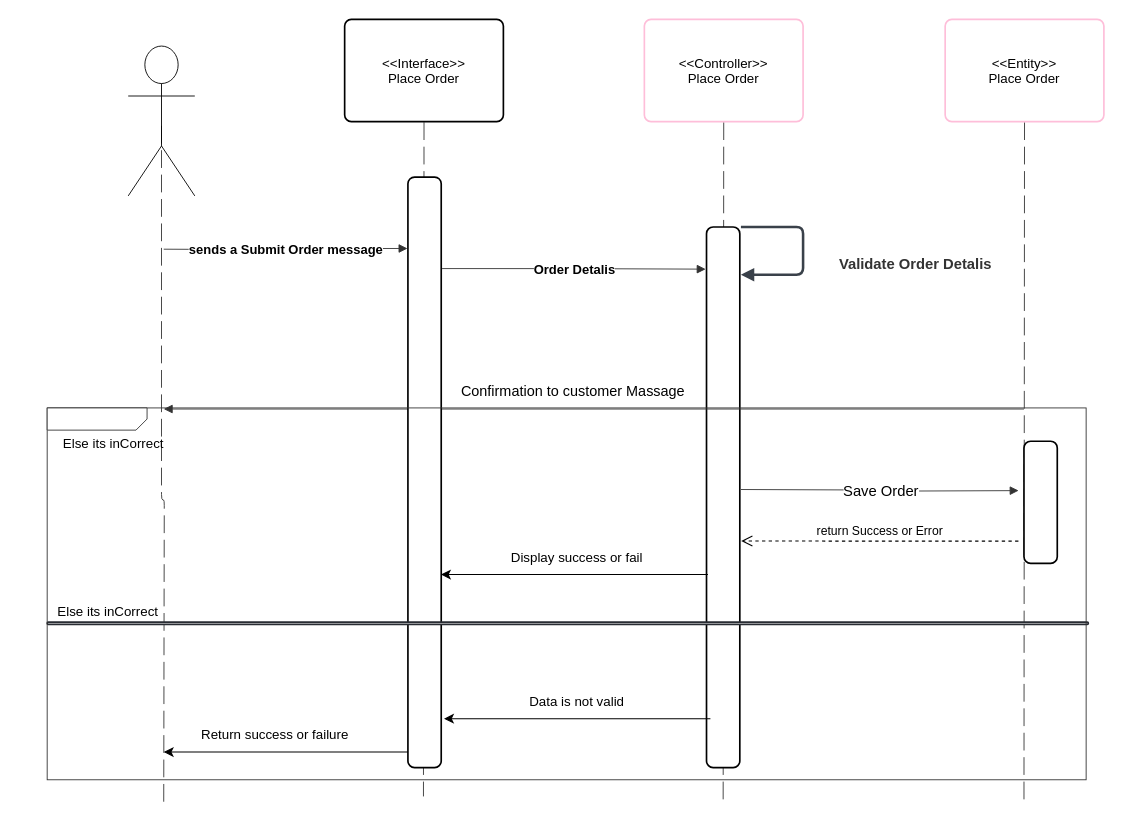
Some shapes in this 1123 by 826 pixel diagram are drawn without their labels. Here are the shapes that lost their labels. From the top down, the box of each, then its label:
(127, 45, 195, 196): Customer
(46, 407, 1086, 780): loop
